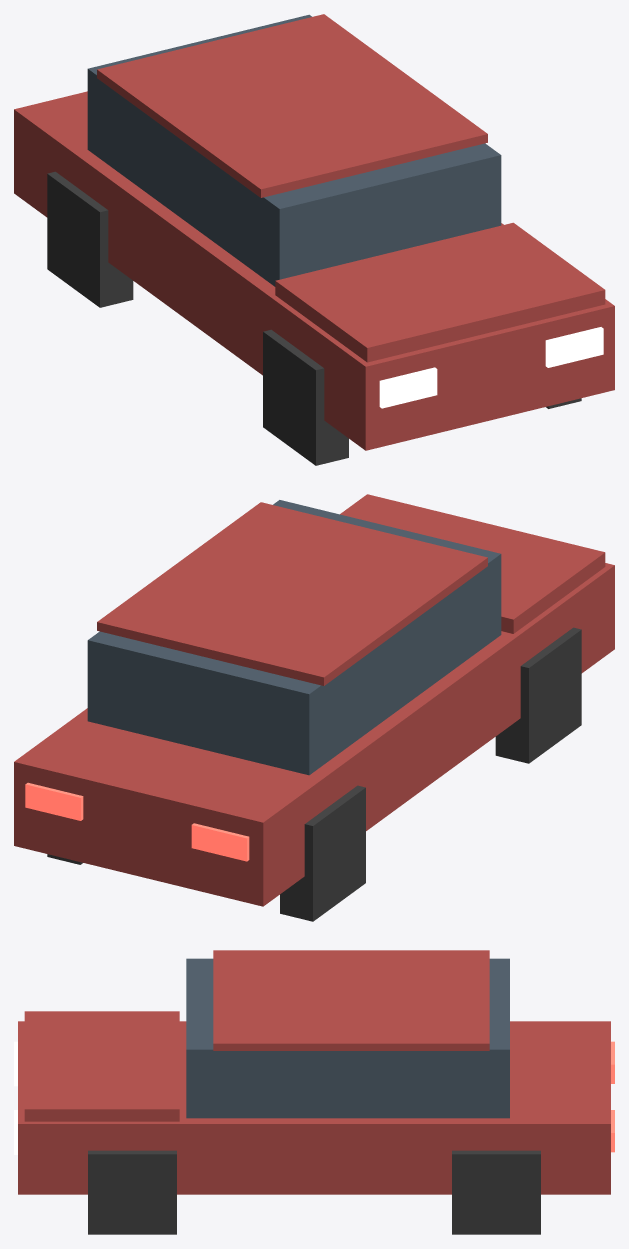
File: car-5.glb
3 renders of one model, top to bottom at view 1: azimuth 30°, elevation 25°; view 2: azimuth 150°, elevation 25°; view 3: azimuth 270°, elevation 25°, orthographic. The views are drawn at different scales.
Bounding box in the file's own units: 1.92 × 1.5 × 4.46.
